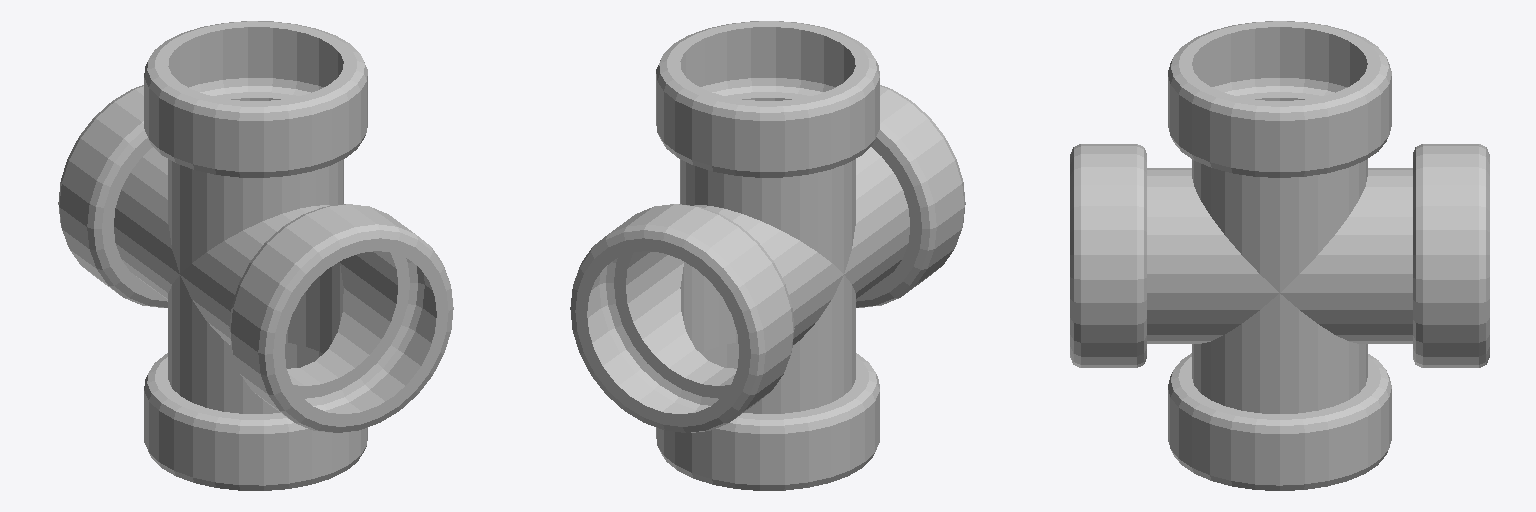
File: 4_JUNCTIONTHICK.obj
3 renders of one model, left to right at view 1: azimuth 30°, elevation 25°; view 2: azimuth 150°, elevation 25°; view 3: azimuth 270°, elevation 25°, orthographic.
Parts seen in each view (by area): view 1: 4_JUNCTIONTHICK; view 2: 4_JUNCTIONTHICK; view 3: 4_JUNCTIONTHICK.
Part boxes in pixels (x1,y1,x2,y2): 4_JUNCTIONTHICK: (58,21,453,490); 4_JUNCTIONTHICK: (570,21,965,490); 4_JUNCTIONTHICK: (1070,21,1489,490).
Bounding box in the file's own units: 0.6388 × 1.21 × 1.19.